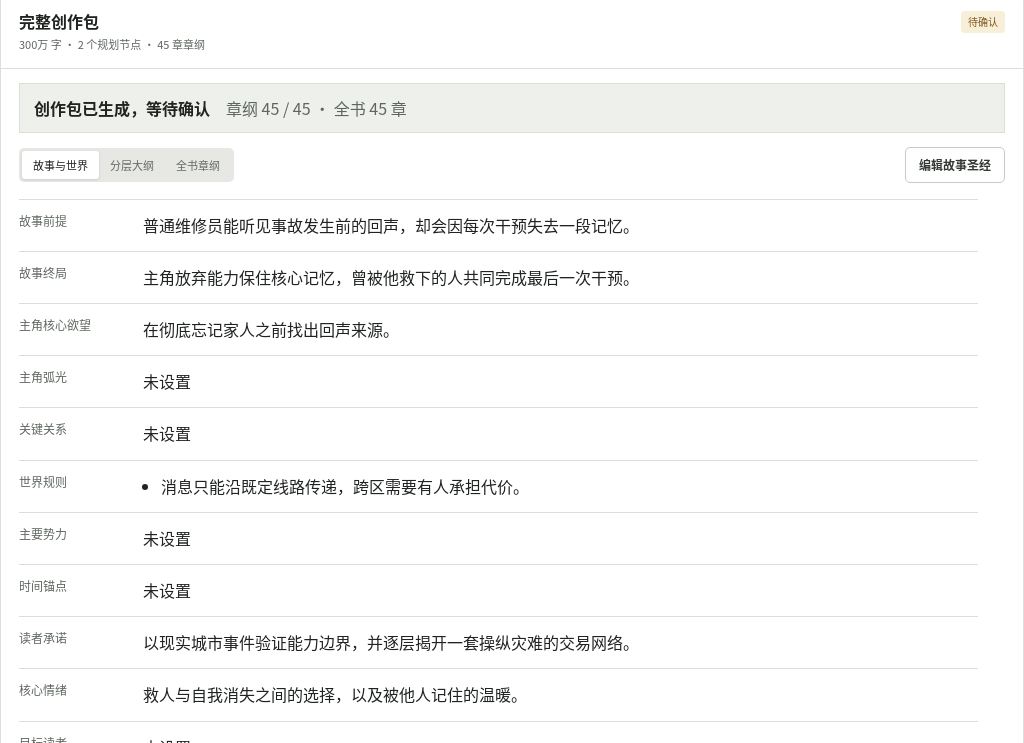
Scenario: launch pack review › makes every generated chapter available through bounded pages
Click the button "全书章纲" at (198, 165), box [165, 151, 231, 179]
(page scrolled)
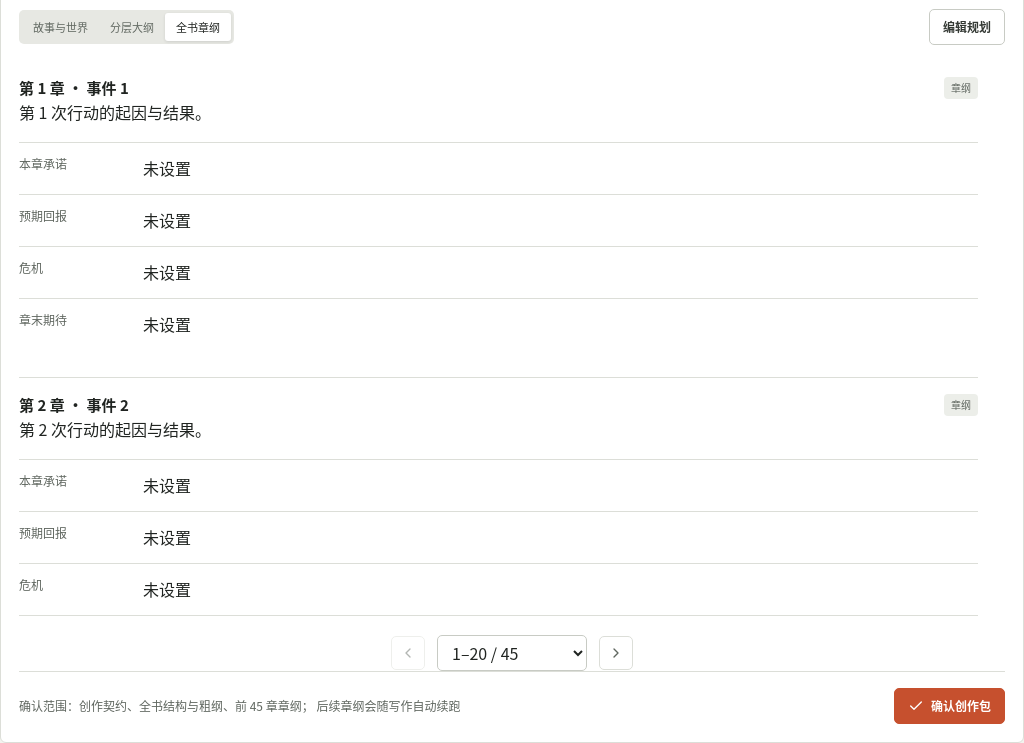
Check: the heading "第 45 章 · 事件 45" is not shown
Check: the heading "第 1 章 · 事件 1" is shown, box [19, 77, 129, 98]
Select "41–45 / 45" in the dropdown named "内容页码" at (512, 653), box [437, 635, 587, 671]
(page scrolled)
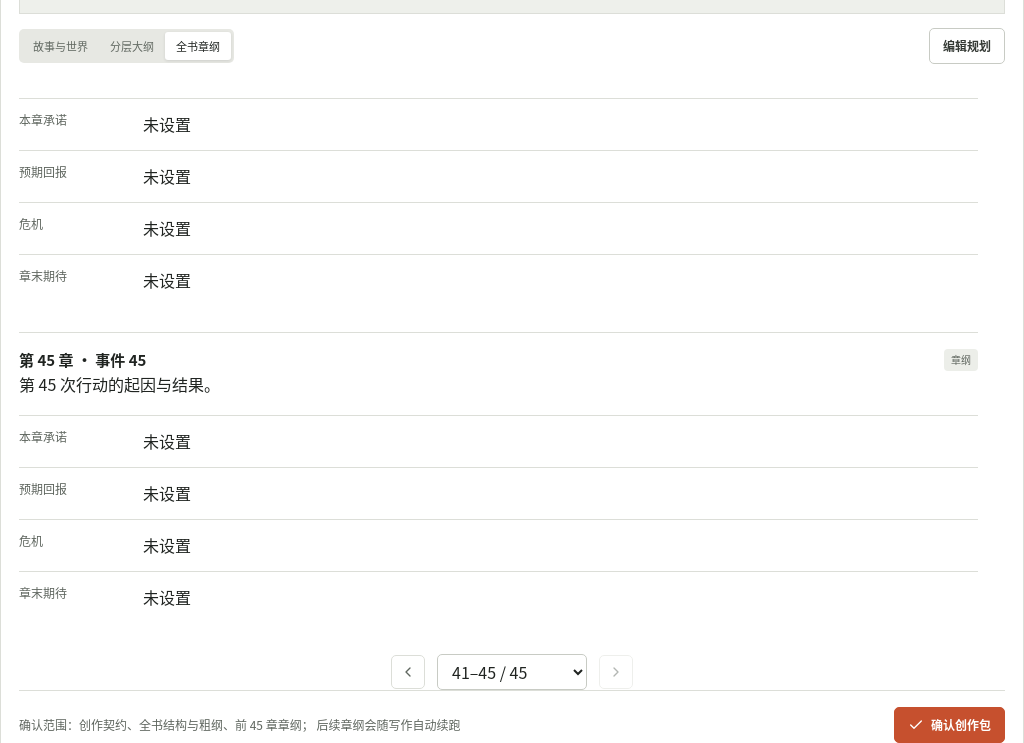
Check: the heading "第 45 章 · 事件 45" is shown, box [19, 350, 146, 370]
